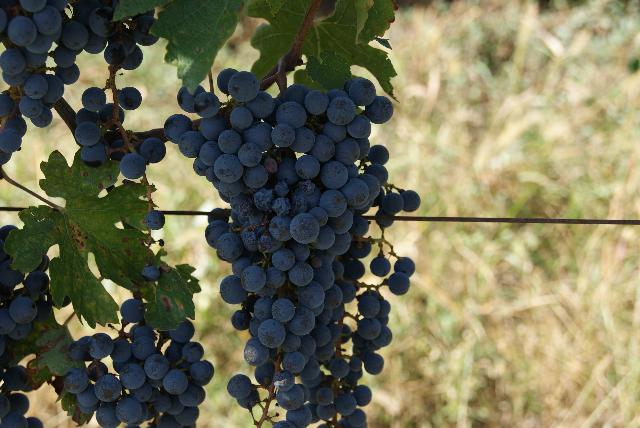grapes: (175, 49, 392, 428), (54, 0, 165, 181), (64, 299, 214, 428)
